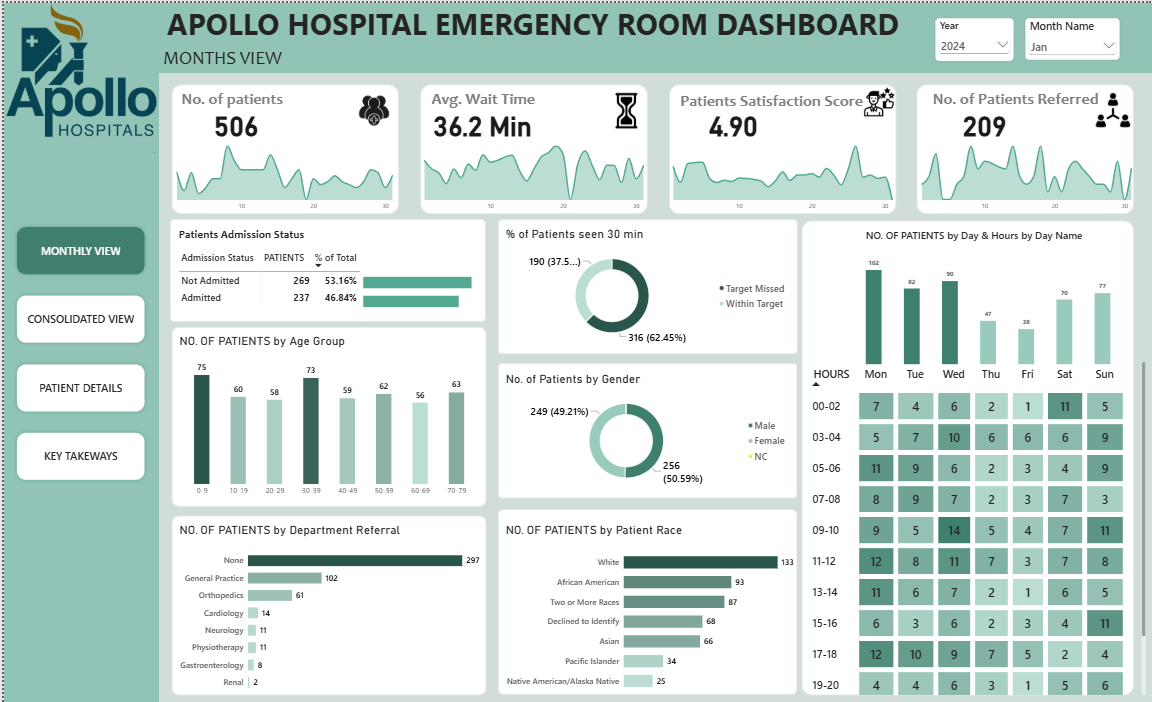

This screenshot's page, from the dashboard's own definition file:
{"tool":"powerbi","page":{"name":"MONTHLY VIEW","canvas":[2300,1400],"ordinal":0},"visuals":[{"type":"shape","box":[310.7,0,1989.8,140],"z":0},{"type":"textbox","box":[310,0,1990,140],"z":1000},{"type":"textbox","box":[310.8,86.5,337.8,54.1],"z":2000},{"type":"shape","box":[335.1,162.2,455,260],"z":3000},{"type":"shape","box":[0,0,310,1399],"z":4000},{"type":"cardVisual","fields":{"Data":["Hospital ER_Data.NO. OF PATIENTS"]},"box":[366.2,185.5,197.4,123.6],"z":5000},{"type":"slicer","fields":{"Values":["Date Table.Year"]},"box":[1862.2,29.7,156.8,86.5],"z":6000},{"type":"slicer","fields":{"Values":["Date Table.Month Name"]},"box":[2043.2,29.7,189.2,83.8],"z":7000},{"type":"textbox","box":[354.3,173.6,325.7,54.7],"z":8000},{"type":"areaChart","fields":{"Category":["Date Table.Date.Variation.Date Hierarchy.Day"],"Y":["Hospital ER_Data.NO. OF PATIENTS"]},"box":[321,261.6,482.7,171.2],"z":9000},{"type":"shape","box":[832.1,161.7,455,260],"z":10000},{"type":"shape","box":[1329.1,161.7,455,260],"z":11000},{"type":"shape","box":[1826.1,161.7,435,260],"z":12000},{"type":"textbox","box":[1352.9,176,387.6,54.7],"z":13000},{"type":"textbox","box":[856,173.6,325.7,54.7],"z":14000},{"type":"textbox","box":[1857,173.6,359,54.7],"z":15000},{"type":"cardVisual","fields":{"Data":["Hospital ER_Data.Avg. Wait Time"]},"box":[810.8,192.6,294.8,107],"z":16000},{"type":"cardVisual","fields":{"Data":["Hospital ER_Data.Satisfaction Score"]},"box":[1360.1,185.5,197.4,123.6],"z":17000},{"type":"cardVisual","fields":{"Data":["Hospital ER_Data.No. of Patient Referred"]},"box":[1861.8,185.5,197.4,123.6],"z":18000},{"type":"areaChart","fields":{"Category":["Date Table.Date.Variation.Date Hierarchy.Day"],"Y":["Avg(Hospital ER_Data.Patient Waittime)"]},"box":[815.6,261.6,489.8,171.2],"z":19000},{"type":"areaChart","fields":{"Category":["Date Table.Date.Variation.Date Hierarchy.Day"],"Y":["Hospital ER_Data.Satisfaction Score"]},"box":[1312.5,261.6,489.8,171.2],"z":20000},{"type":"shape","box":[332.9,435.1,630.1,190],"z":21000},{"type":"pivotTable","title":"Patients Admission Status","fields":{"Rows":["Hospital ER_Data.Admission Status"],"Values":["Hospital ER_Data.NO. OF PATIENTS1","Hospital ER_Data.NO. OF PATIENTS"]},"box":[332.9,432.7,630.1,204.5],"z":22000},{"type":"areaChart","fields":{"Category":["Date Table.Date.Variation.Date Hierarchy.Day"],"Y":["Hospital ER_Data.No. of Patient Referred"]},"box":[1809.5,261.6,470.8,171.2],"z":23000},{"type":"shape","box":[335,647.5,630.1,360],"z":24000},{"type":"clusteredColumnChart","title":"NO. OF PATIENTS by  Age Group","fields":{"Category":["Hospital ER_Data.Age Group"],"Y":["Hospital ER_Data.NO. OF PATIENTS"]},"box":[335,647.5,632.5,359],"z":25000},{"type":"shape","box":[335,1025,630,360],"z":26000},{"type":"barChart","fields":{"Category":["Hospital ER_Data.Admission Status"],"Y":["Hospital ER_Data.NO. OF PATIENTS"]},"box":[702.7,486.4,273.6,176.4],"z":27000},{"type":"clusteredBarChart","title":"NO. OF PATIENTS by Department Referral","fields":{"Category":["Hospital ER_Data.Department Referral"],"Y":["Hospital ER_Data.NO. OF PATIENTS"]},"box":[335,1025,632.5,375],"z":28000},{"type":"shape","box":[986.8,432.7,600,270],"z":29000},{"type":"shape","box":[1595,435,665,950],"z":30000},{"type":"shape","box":[986.8,720.5,599.2,271.1],"z":31000},{"type":"donutChart","title":"% of Patients seen 30 min","fields":{"Category":["Hospital ER_Data.Waittime Status"],"Y":["Hospital ER_Data.NO. OF PATIENTS"]},"box":[986.8,432.7,599.2,263.9],"z":32000},{"type":"donutChart","title":"No. of Patients by Gender","fields":{"Category":["Hospital ER_Data.Patient Gender"],"Y":["Hospital ER_Data.NO. OF PATIENTS"]},"box":[986.8,722.8,599.2,263.9],"z":33000},{"type":"pivotTable","fields":{"Columns":["Date Table.Day Name"],"Rows":["Hospital ER_Data.Waittime Interval"],"Values":["Hospital ER_Data.NO. OF PATIENTS"]},"box":[1595,702.5,705,697.5],"z":34000},{"type":"columnChart","fields":{"Category":["Date Table.Day Name"],"Y":["Hospital ER_Data.NO. OF PATIENTS"]},"box":[1707.5,435,524,304],"z":35000},{"type":"shape","box":[986.8,1012.9,599.2,370.9],"z":36000},{"type":"clusteredBarChart","title":"NO. OF PATIENTS by Patient Race","fields":{"Category":["Hospital ER_Data.Patient Race"],"Y":["Hospital ER_Data.NO. OF PATIENTS"]},"box":[986.8,1024.8,608.7,375.7],"z":37000},{"type":"image","box":[1202.5,162.5,85,107.5],"z":38000},{"type":"image","box":[702.5,162.5,75,105],"z":39000},{"type":"image","box":[2177.5,175,82.5,92.5],"z":40000},{"type":"image","box":[1700.1,164.1,102.2,76.1],"z":41000},{"type":"image","box":[5,0,300,300],"z":42000},{"type":"pageNavigator","box":[17.5,440,272.5,525],"z":42001}]}

Visuals, with their boxes in screenshot pixels (x1, y1, x2, y2), scaled from the page's 2300x1400 canvas onto the 1152x702 screenshot:
shape: 156,0,1151,70
textbox: 155,0,1151,70
textbox: 156,43,325,71
shape: 168,81,396,212
shape: 0,0,155,701
cardVisual - Hospital ER_Data.NO. OF PATIENTS: 183,93,282,155
slicer - Date Table.Year: 933,15,1011,58
slicer - Date Table.Month Name: 1023,15,1118,57
textbox: 177,87,341,114
areaChart - Date Table.Date.Variation.Date Hierarchy.Day x Hospital ER_Data.NO. OF PATIENTS: 161,131,403,217
shape: 417,81,645,211
shape: 666,81,894,211
shape: 915,81,1133,211
textbox: 678,88,872,116
textbox: 429,87,592,114
textbox: 930,87,1110,114
cardVisual - Hospital ER_Data.Avg. Wait Time: 406,97,554,150
cardVisual - Hospital ER_Data.Satisfaction Score: 681,93,780,155
cardVisual - Hospital ER_Data.No. of Patient Referred: 933,93,1031,155
areaChart - Date Table.Date.Variation.Date Hierarchy.Day x Avg(Hospital ER_Data.Patient Waittime): 409,131,654,217
areaChart - Date Table.Date.Variation.Date Hierarchy.Day x Hospital ER_Data.Satisfaction Score: 657,131,903,217
shape: 167,218,482,313
"Patients Admission Status" pivotTable: 167,217,482,320
areaChart - Date Table.Date.Variation.Date Hierarchy.Day x Hospital ER_Data.No. of Patient Referred: 906,131,1142,217
shape: 168,325,483,505
"NO. OF PATIENTS by  Age Group" clusteredColumnChart: 168,325,485,505
shape: 168,514,483,694
barChart - Hospital ER_Data.Admission Status x Hospital ER_Data.NO. OF PATIENTS: 352,244,489,332
"NO. OF PATIENTS by Department Referral" clusteredBarChart: 168,514,485,701
shape: 494,217,795,352
shape: 799,218,1132,694
shape: 494,361,794,497
"% of Patients seen 30 min" donutChart: 494,217,794,349
"No. of Patients by Gender" donutChart: 494,362,794,495
pivotTable - Date Table.Day Name x Hospital ER_Data.Waittime Interval: 799,352,1151,701
columnChart - Date Table.Day Name x Hospital ER_Data.NO. OF PATIENTS: 855,218,1118,371
shape: 494,508,794,694
"NO. OF PATIENTS by Patient Race" clusteredBarChart: 494,514,799,701
image: 602,81,645,135
image: 352,81,389,134
image: 1091,88,1132,134
image: 852,82,903,120
image: 3,0,153,150
pageNavigator: 9,221,145,484
